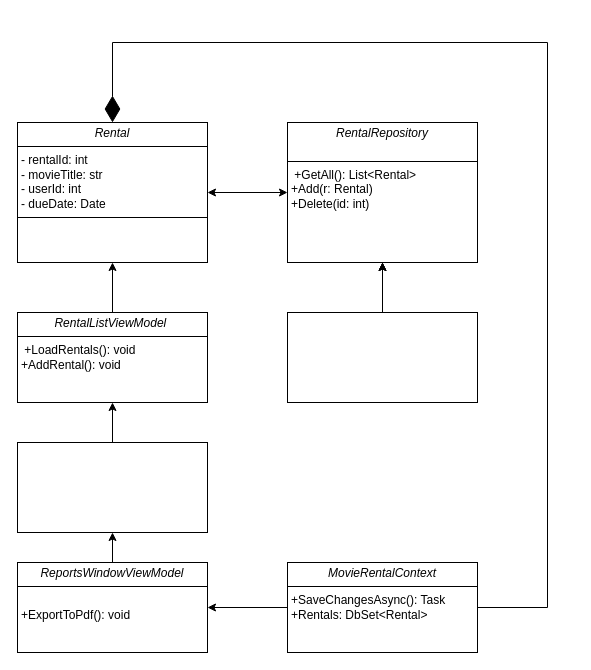
Some shapes in this 591 by 670 pixel diagram are drawn without their labels. The shapes that lost their labels are listed below. From the top down, each one's centre as x and y in pixels, then its label:
the point at 382,357: RentalsController +GetRentals(): IActionResult +PostRental(): IActionResult
the point at 112,487: RentalListViewModel +ExportToPdf(): void
